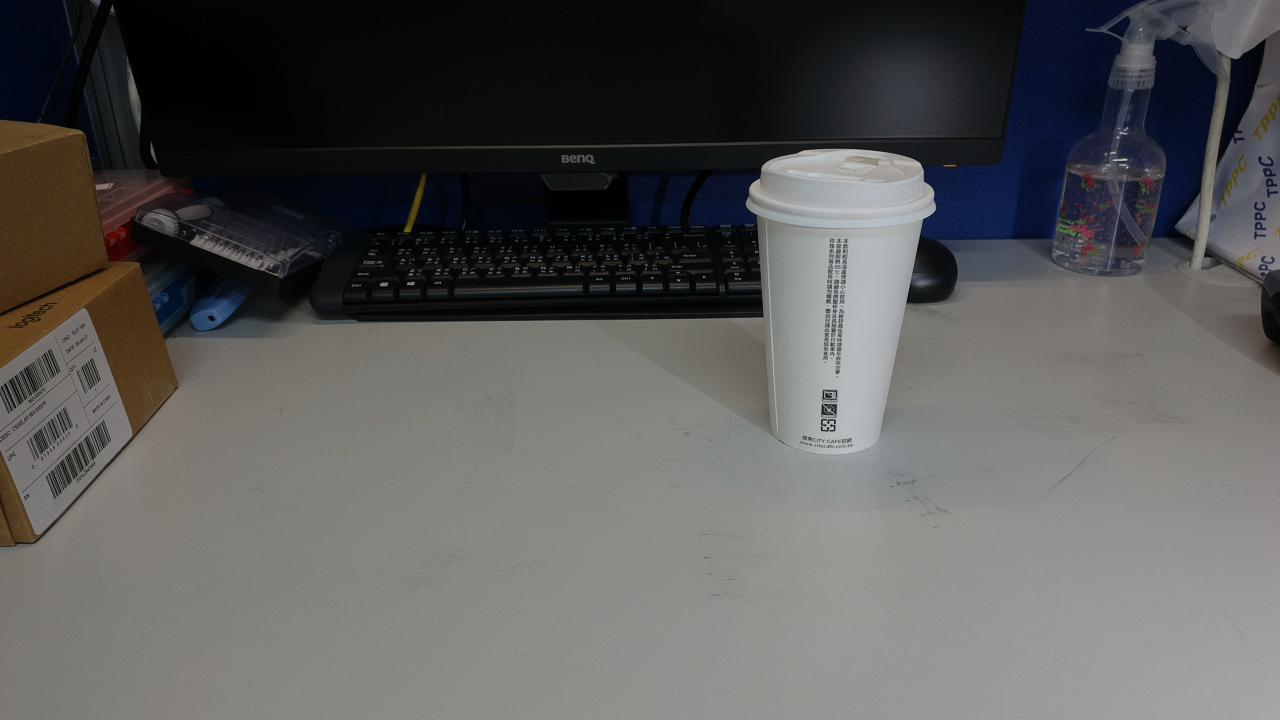columnar: (202, 353, 451, 639)
grip: (126, 451, 233, 620)
